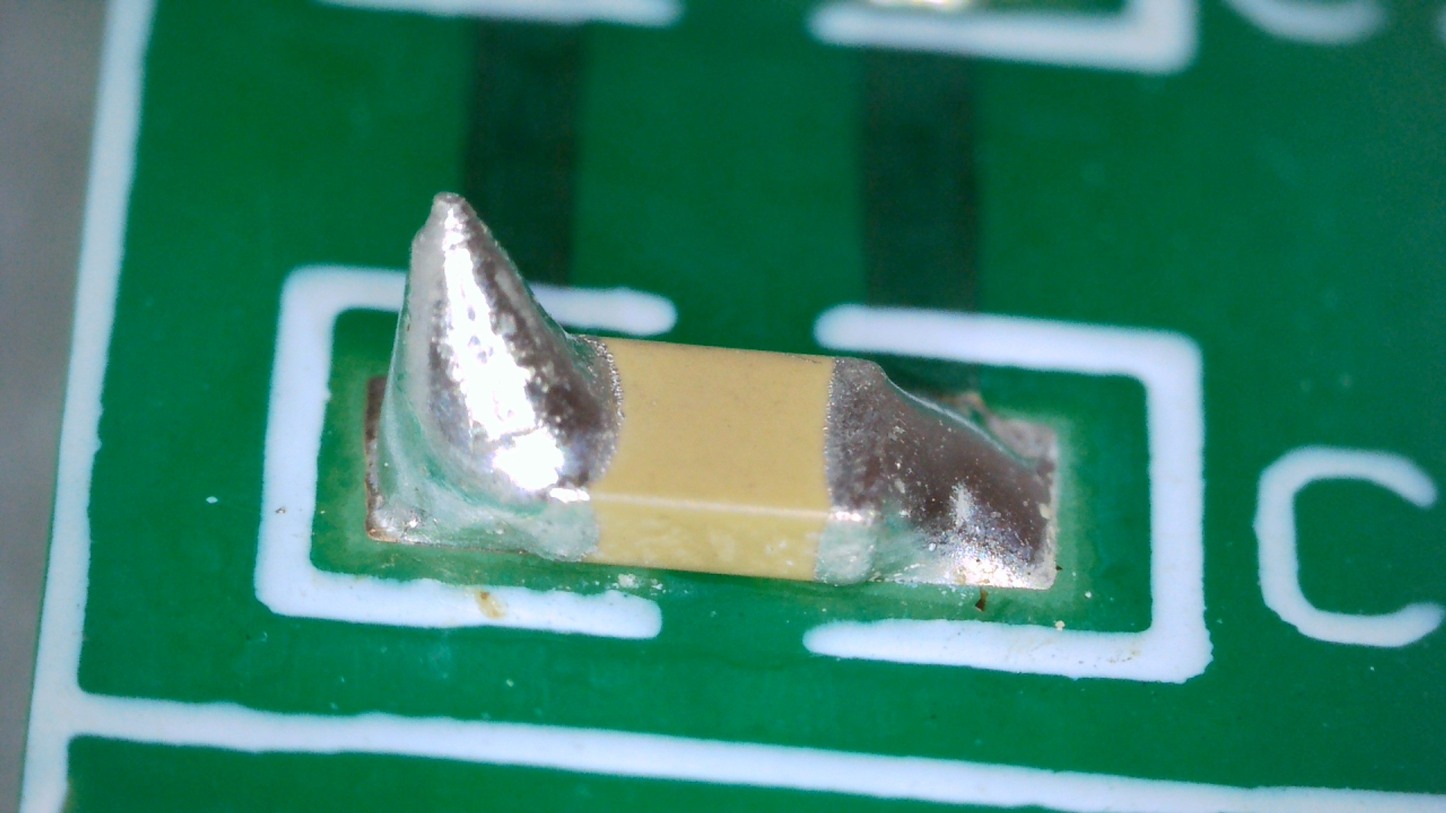NG: (370, 194, 600, 553), (832, 358, 1051, 582)
